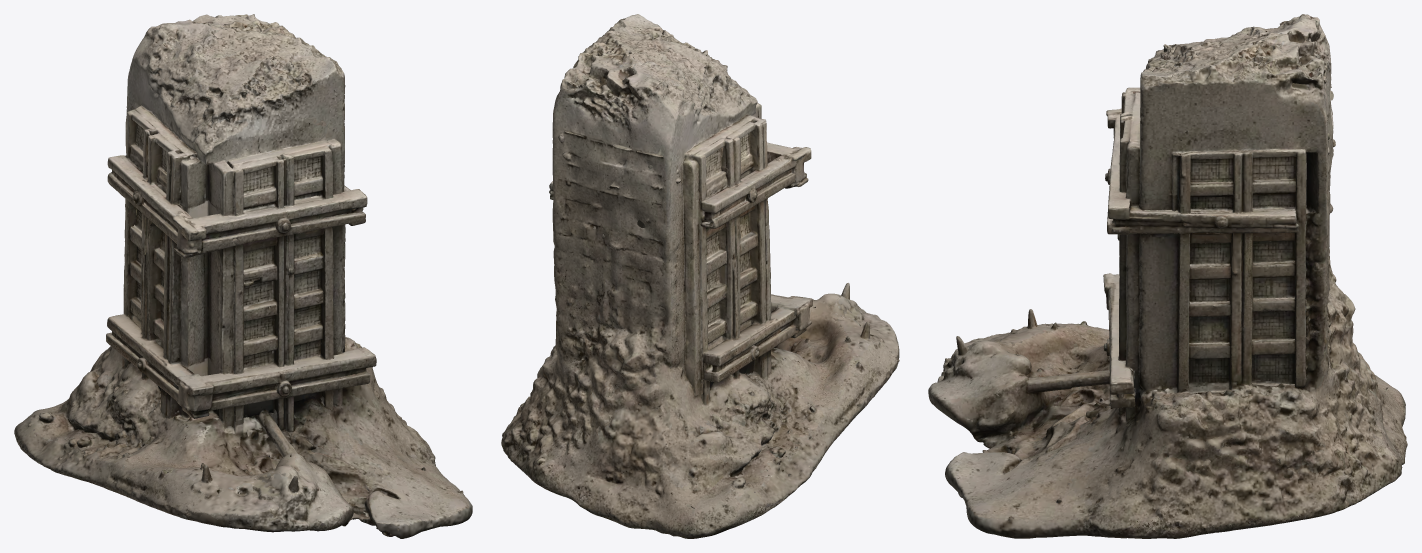
The model's file is Grate.glb.
3 renders of one model, left to right at view 1: azimuth 30°, elevation 25°; view 2: azimuth 150°, elevation 25°; view 3: azimuth 270°, elevation 25°, orthographic. The views are drawn at different scales.
Parts seen in each view (by area): view 1: texture_mapping; view 2: texture_mapping; view 3: texture_mapping.
Part boxes in pixels (x1,y1,x2,y2): texture_mapping: (14, 14, 472, 538); texture_mapping: (501, 14, 899, 538); texture_mapping: (928, 14, 1407, 538).
Size of the model in its own units: 0.7808 by 0.9989 by 0.9782.
Materials: 1 (1 with a texture image).
